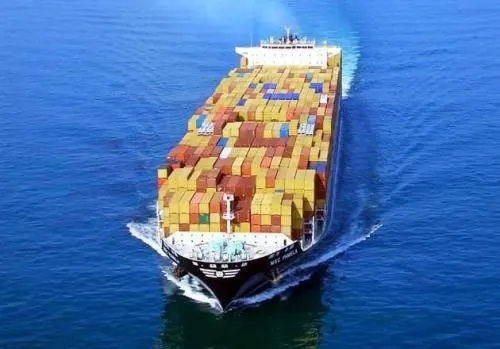Cargoship: (151, 16, 345, 305)
